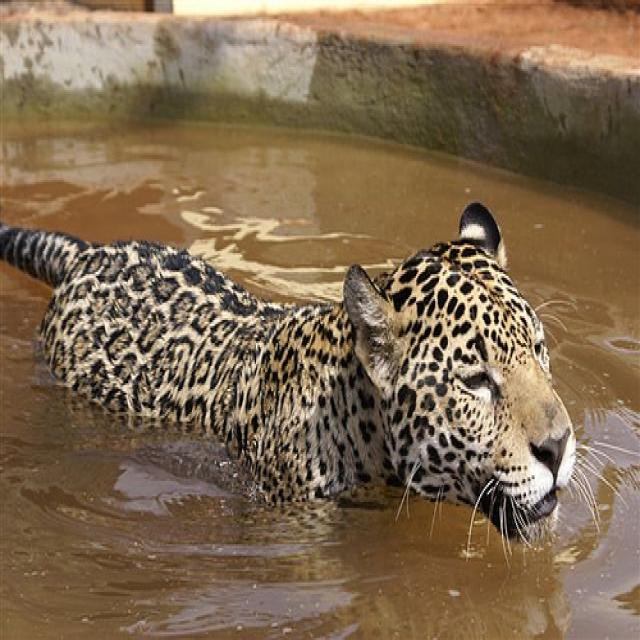Leopard: (0, 199, 637, 563)
